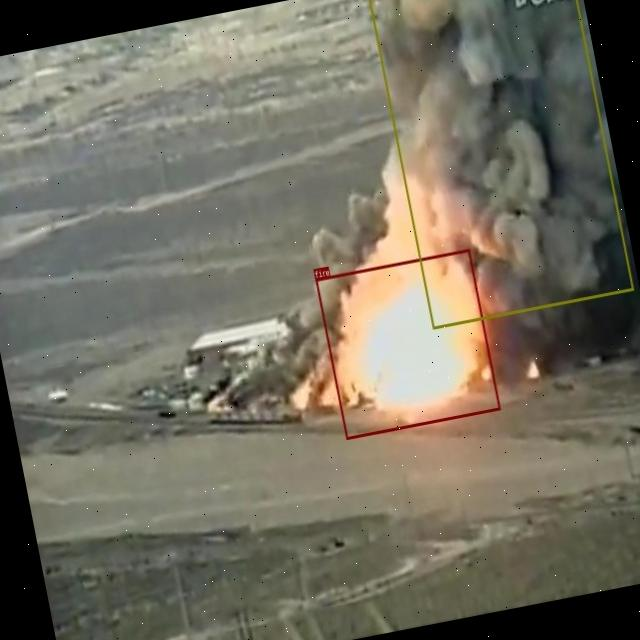fire: (316, 249, 500, 440)
smoke: (366, 0, 634, 329)
